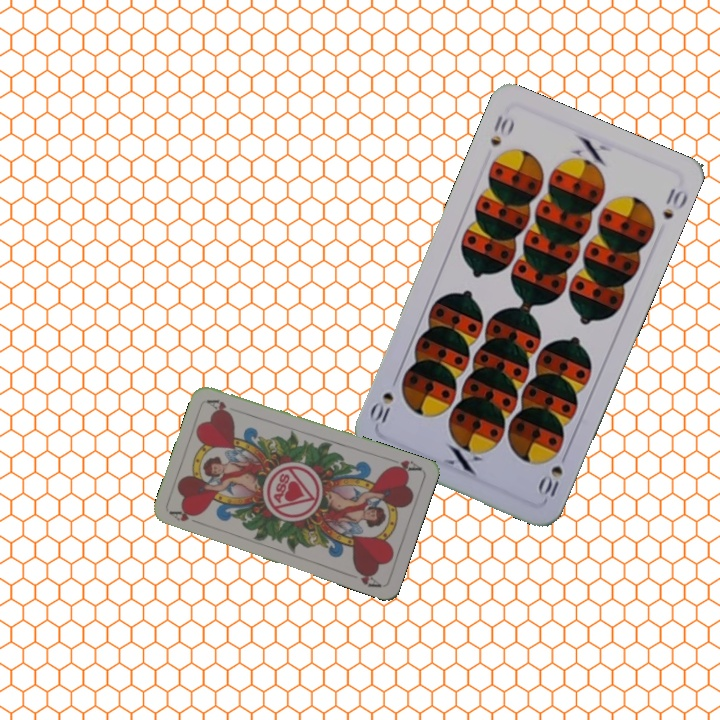HA: (166, 506, 206, 528), (384, 456, 424, 476)
S10: (533, 447, 571, 503), (486, 111, 517, 149)
